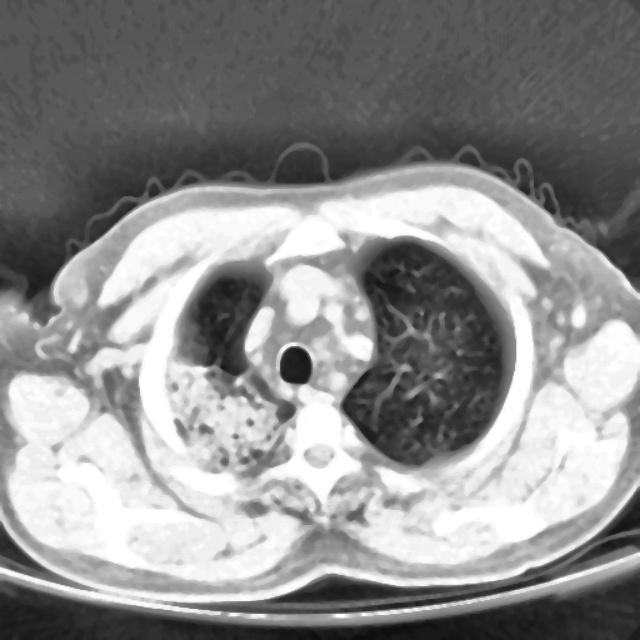covid: (0, 157, 639, 603)
